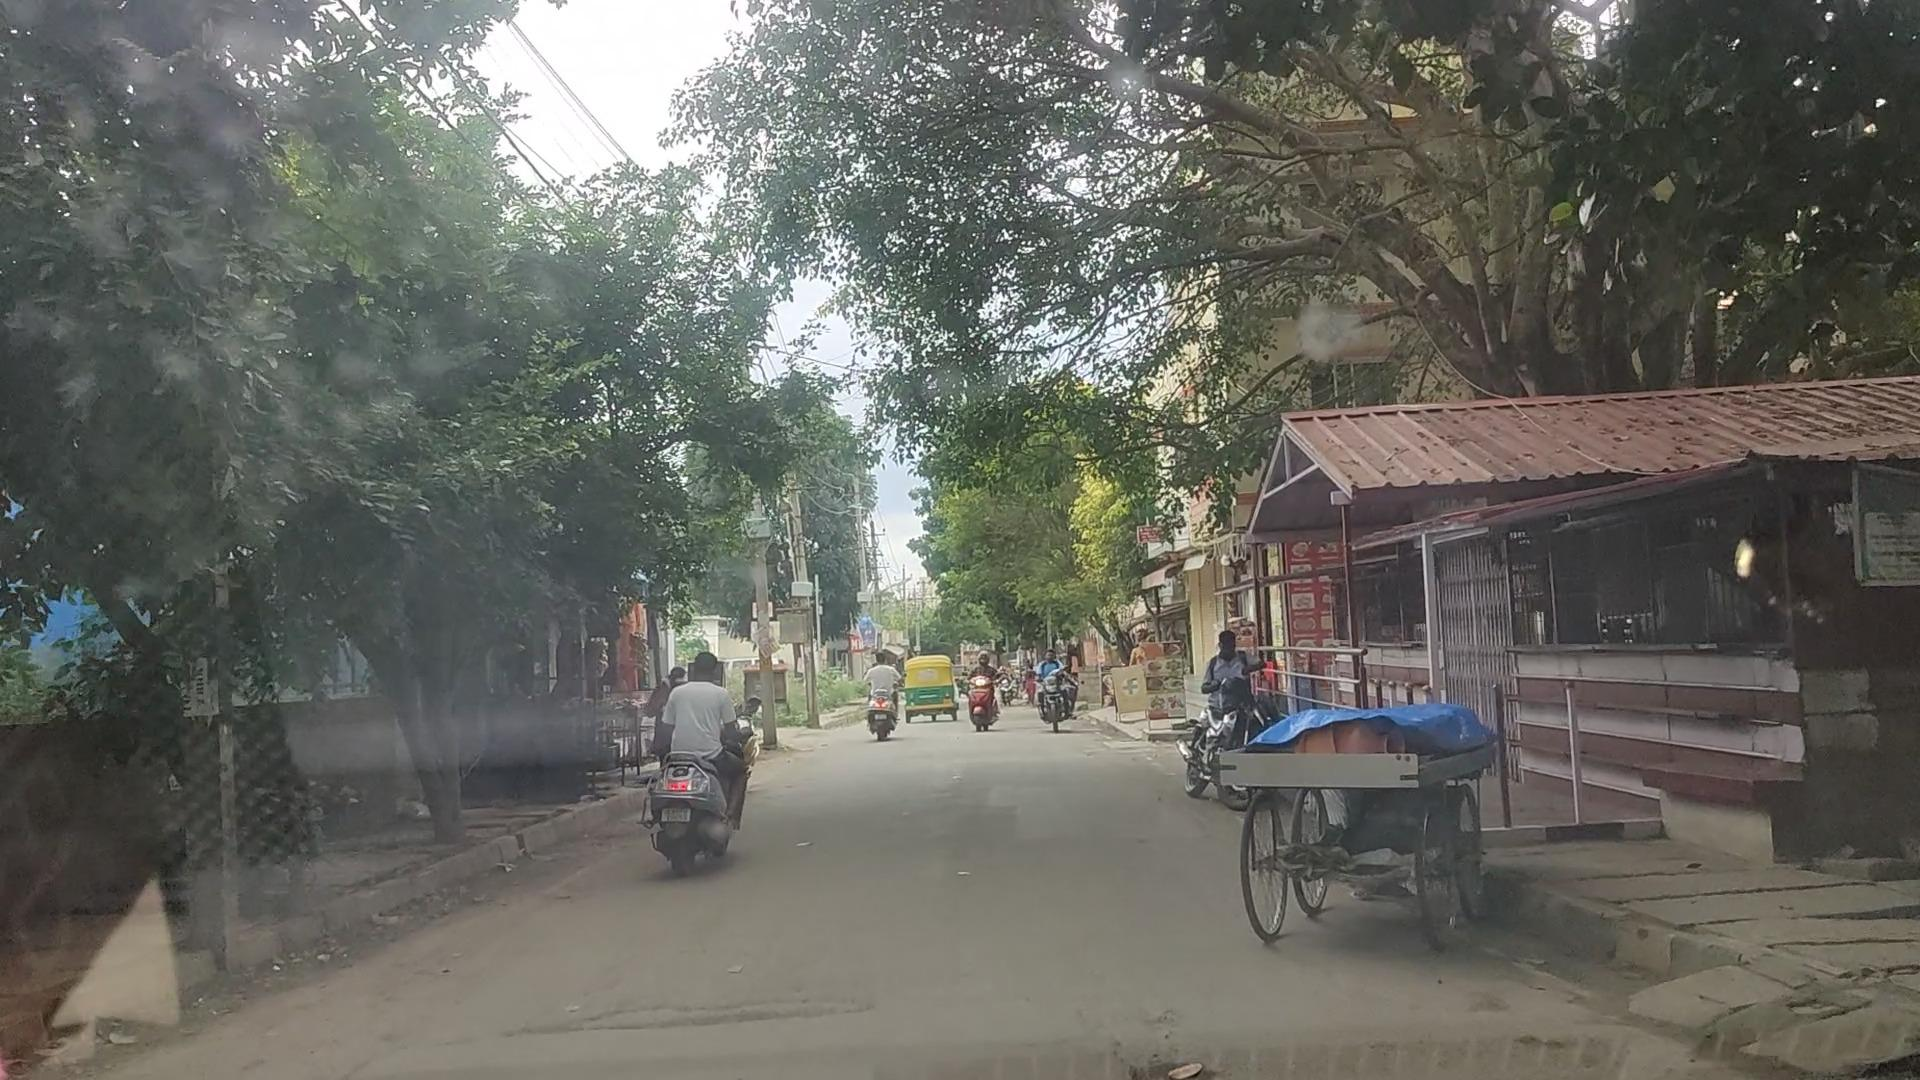LMV: (661, 654, 744, 885), (861, 653, 906, 744)
RoadDamages: (568, 973, 839, 1035)
